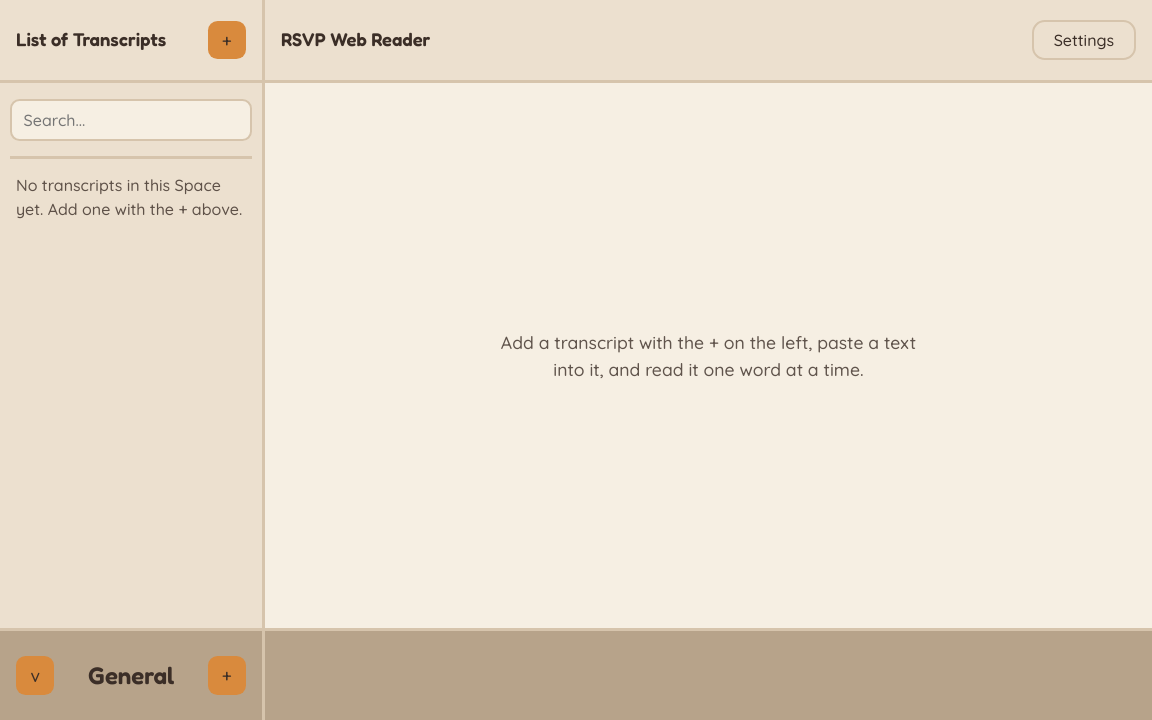
Test: the text box › a text with only timestamps says there is nothing to read
Click the button named "Add transcript": coordinates (227, 40) [208, 21, 246, 59]
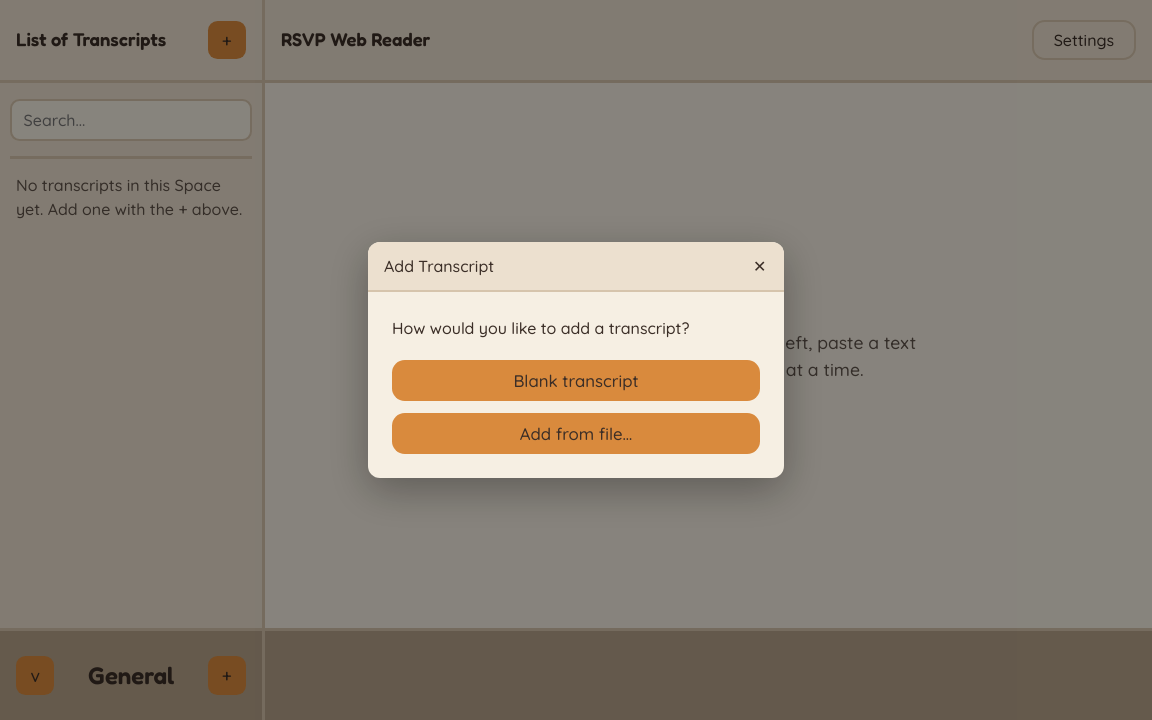
Click the button "Blank transcript": coordinates (576, 380) [392, 360, 760, 401]
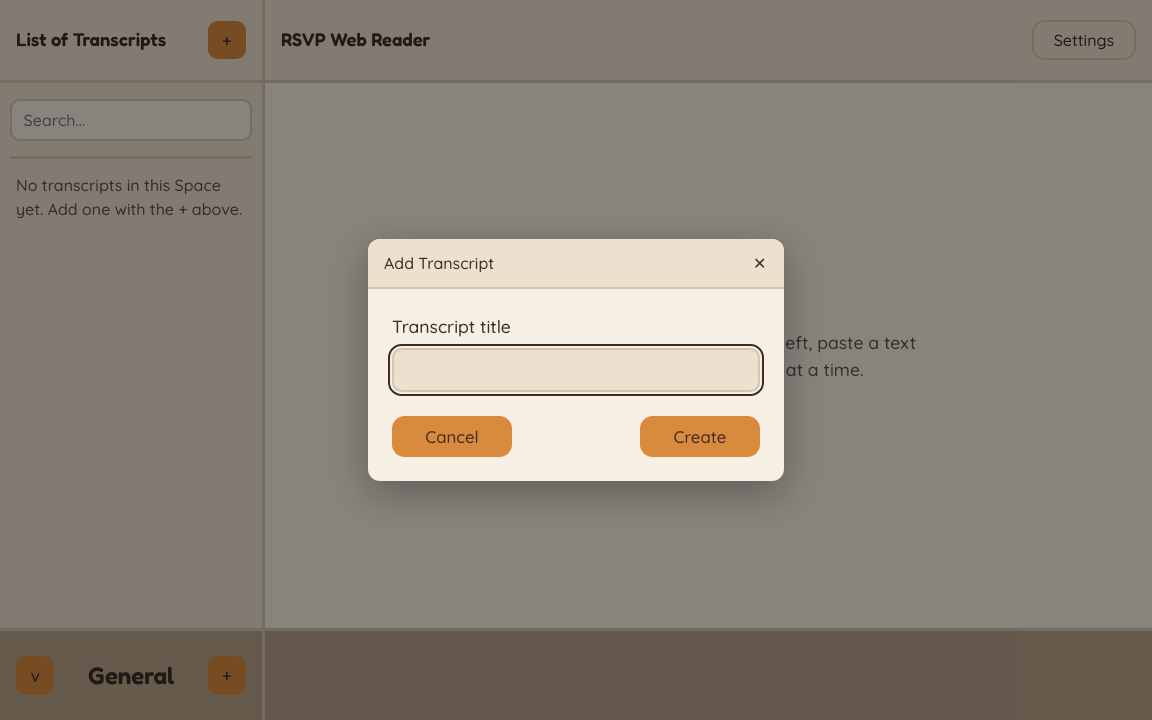
In the field: coordinates (576, 370) [392, 348, 760, 392], type "Notes"
Click the button "Create": coordinates (700, 436) [640, 416, 760, 457]
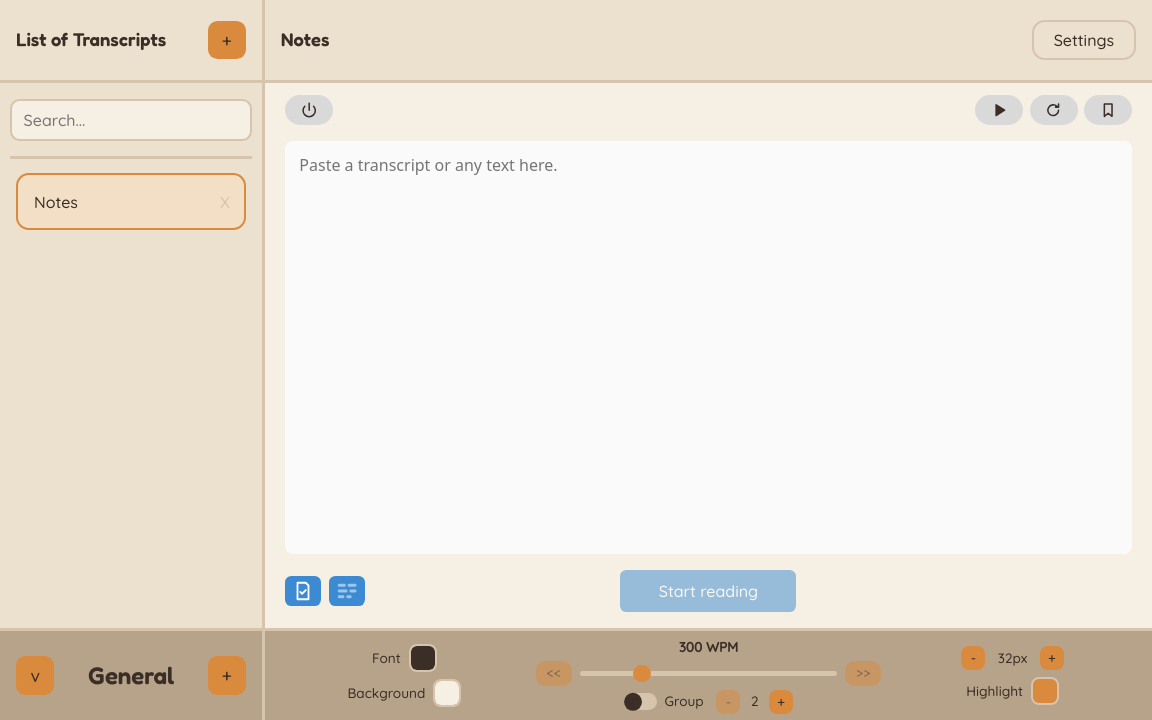
In the text box named "Transcript text": coordinates (708, 348) [285, 141, 1132, 554], type "[00:01] [00:02]"
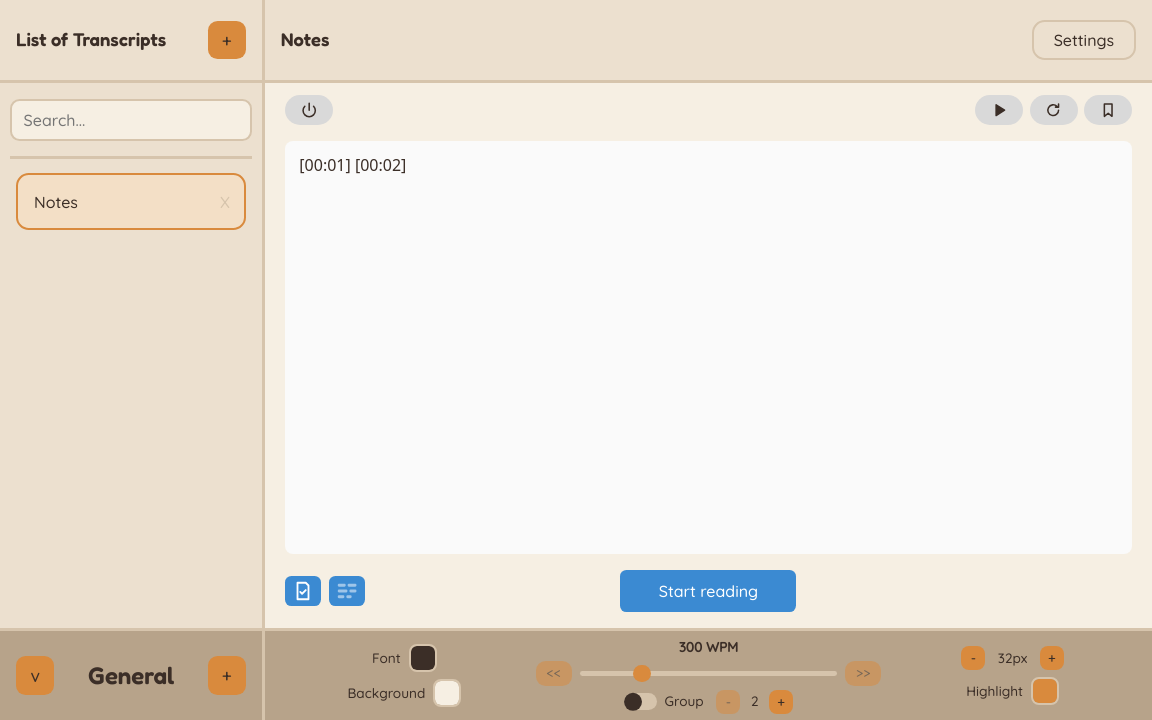
Click the button "Start reading": coordinates (708, 591) [620, 570, 796, 612]
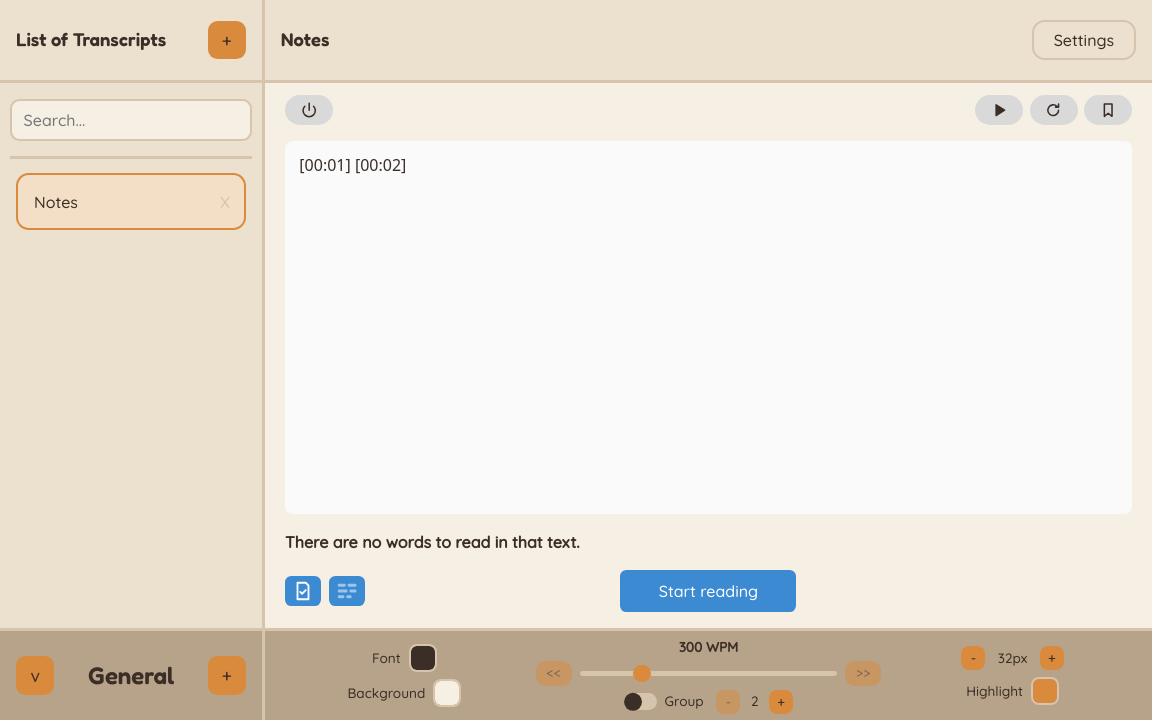
Expected: the message shows "There are no words to read", [285, 532, 580, 552]
Replace the text in the text box named "Transcript text" with "[00:01] hello": coordinates (708, 328) [285, 141, 1132, 514]
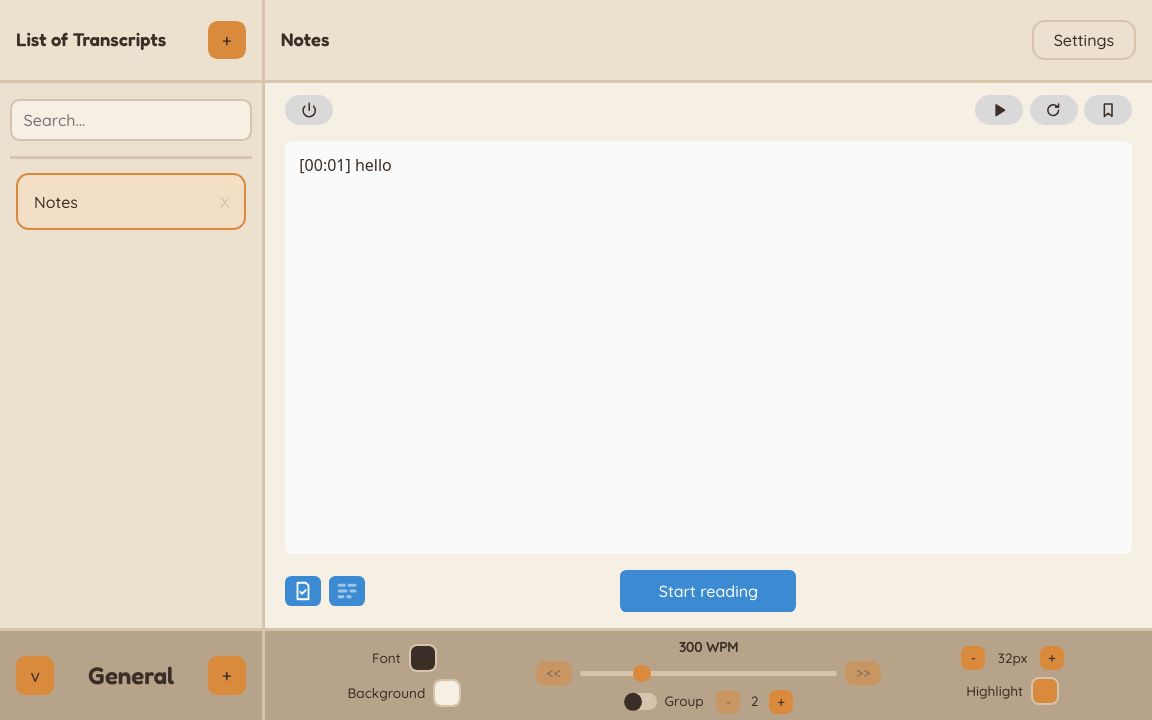
Expected: the message "There are no words to read in that text." is gone
